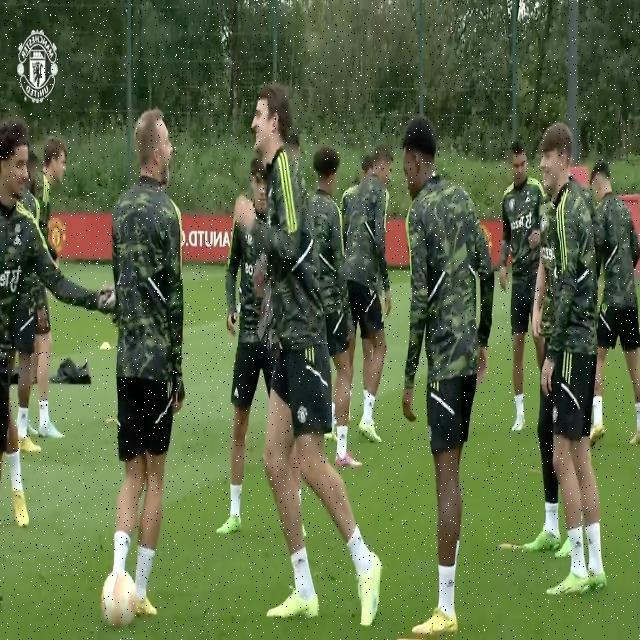Adidas: (573, 536, 583, 552), (13, 234, 23, 246), (446, 577, 454, 591)
